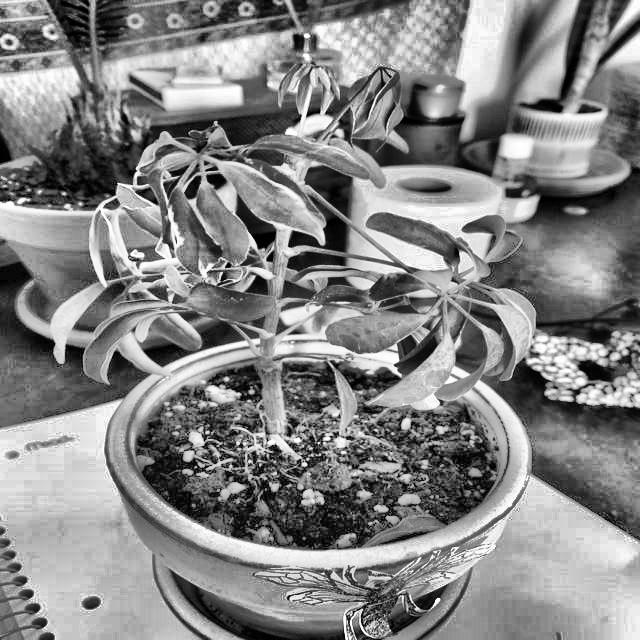plants: (71, 68, 555, 640)
